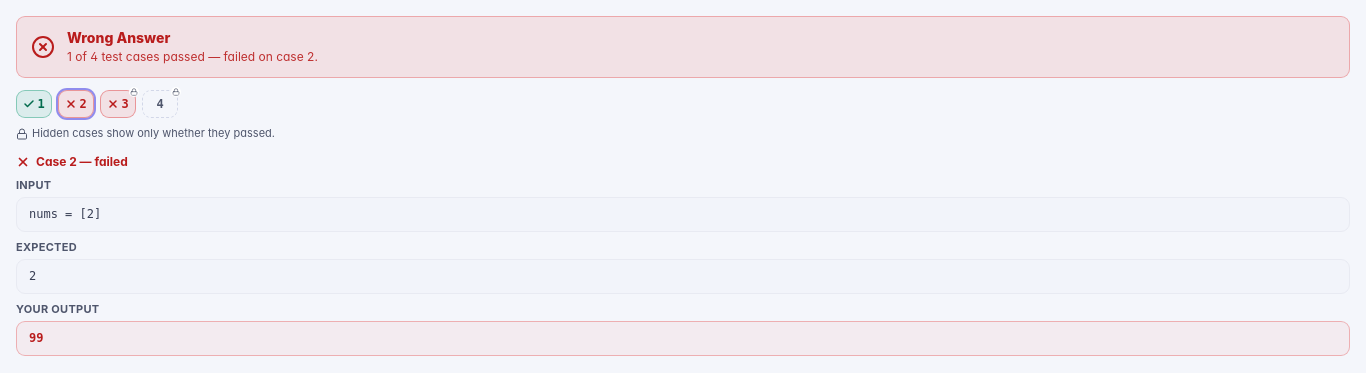
Test case: VerdictView — checked, then Accepted / Wrong Answer / error › lets the student look at any case — and shows a hidden one only as passed or failed
Click the button named "Case 3 (hidden) — failed".
click(118, 104)  # box left=100, top=90, right=136, bottom=118
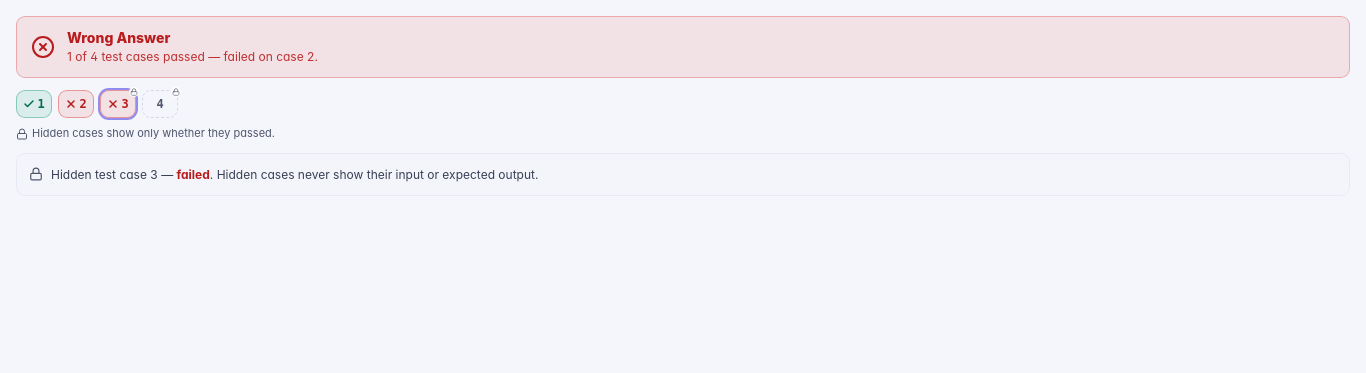
Now the text "Hidden test case 3" shows "failed", box left=176, top=167, right=210, bottom=182
Now the text "never show their input or expected output" is shown, box left=210, top=167, right=538, bottom=182
Click the button named "Case 4 (hidden) — not evaluated".
click(160, 104)  # box left=142, top=90, right=178, bottom=118
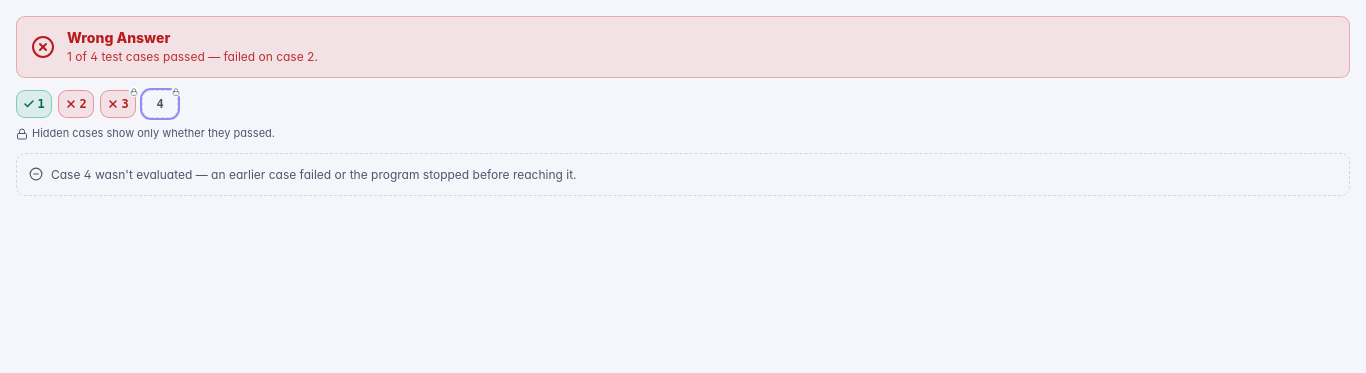
Now the text "wasn.t evaluated" is shown, box left=92, top=167, right=576, bottom=182
Click the button named "Case 1 — passed".
click(34, 104)  # box left=16, top=90, right=52, bottom=118
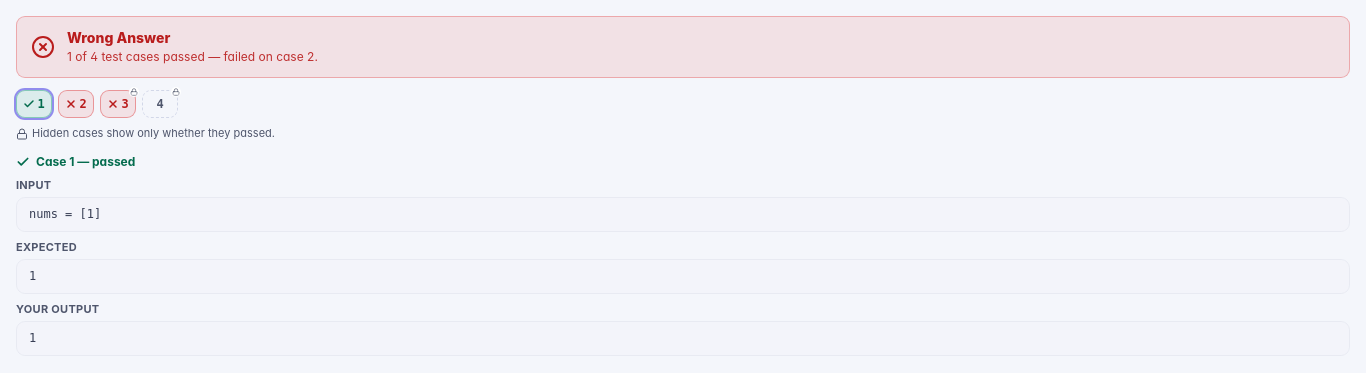
Now the text "Case 1 — passed" is shown, box left=16, top=154, right=135, bottom=169
